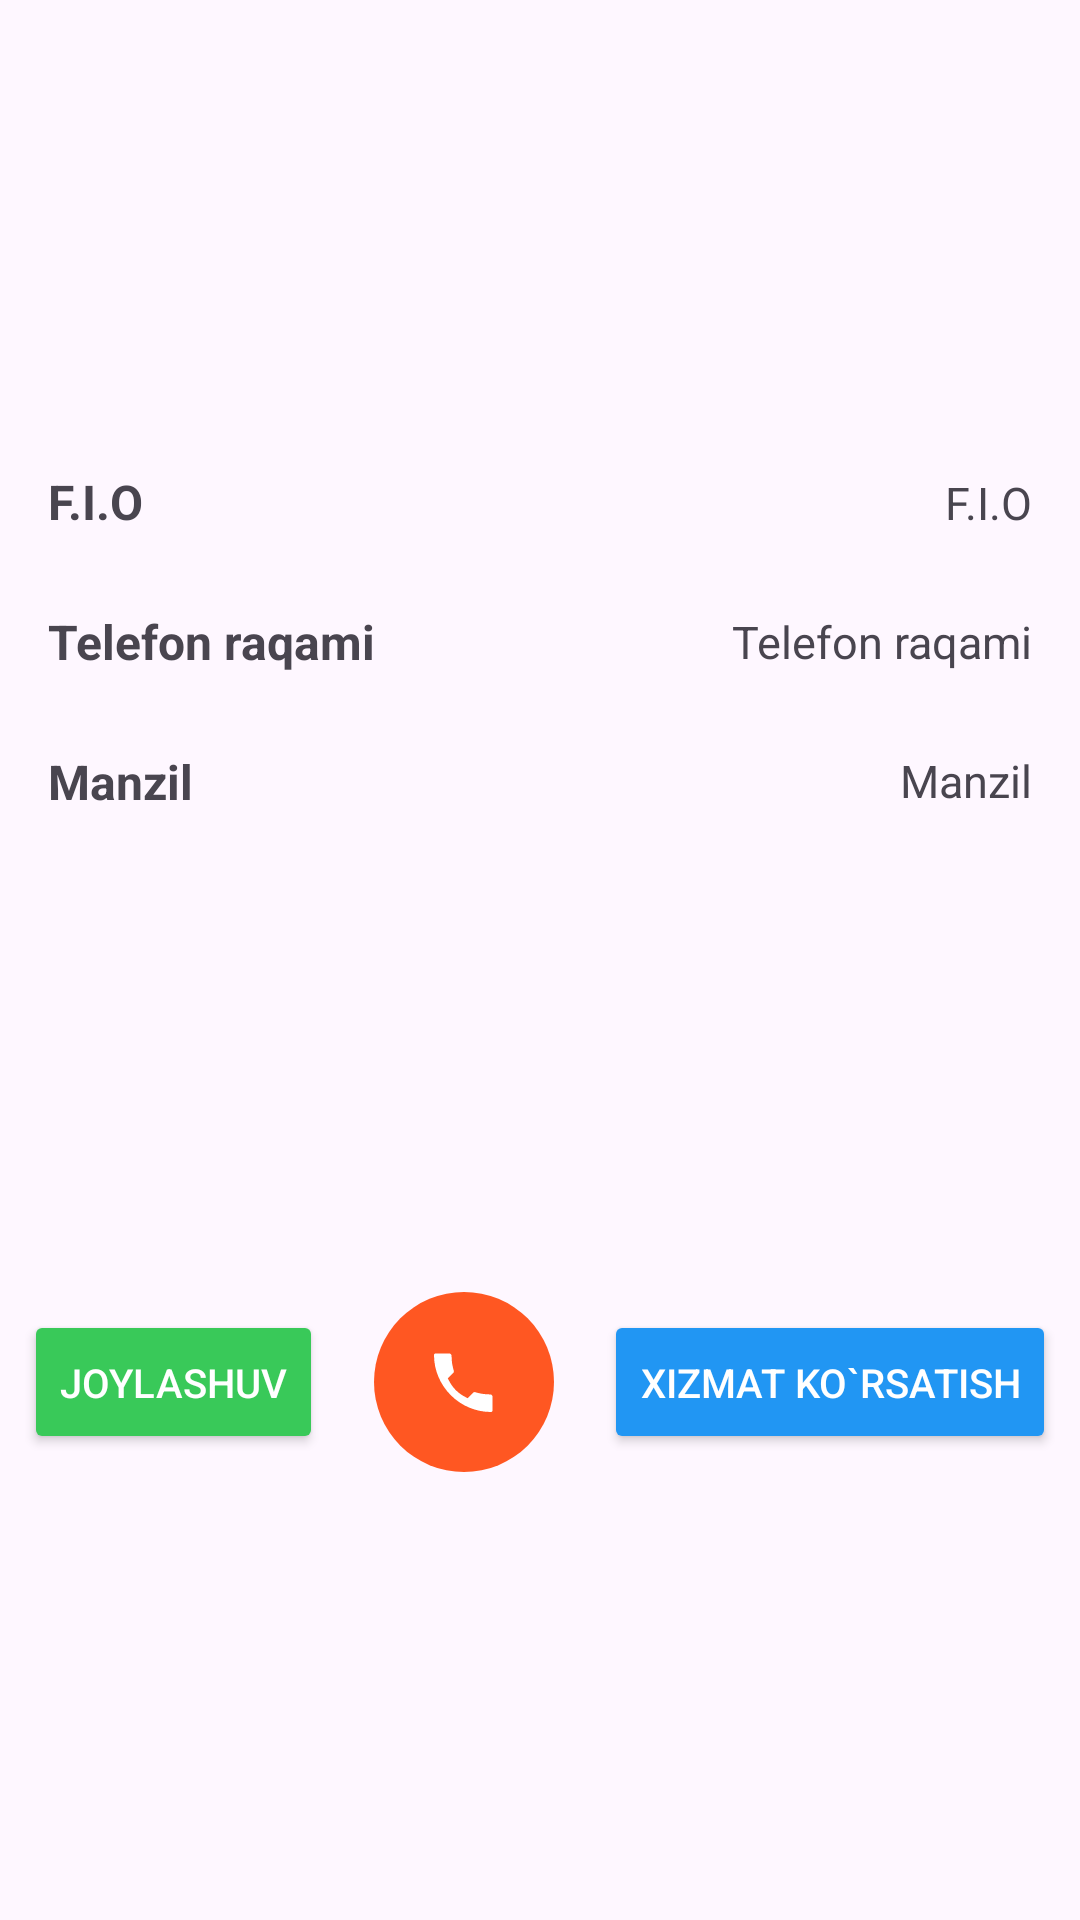

Point at icon controls on the screen. Image size 1080 × 1920, points as (x=x, y=y).
Chaqirish: (x=464, y=1382)
